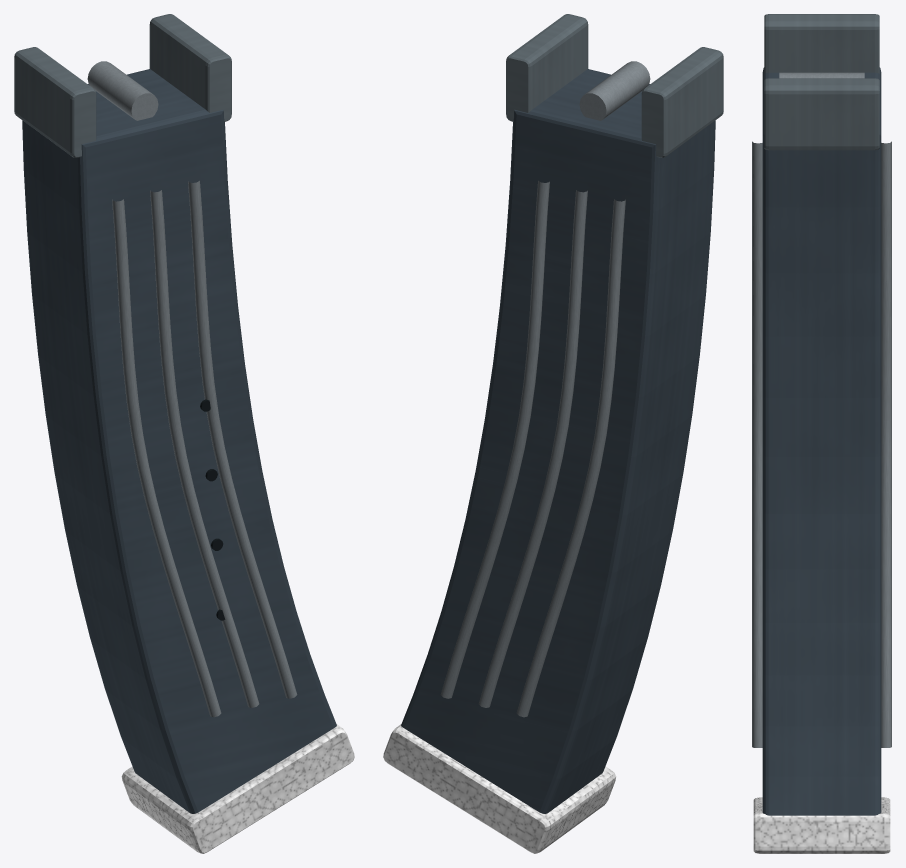
The picture shows the model from 3 angles, left to right: view 1: azimuth 30°, elevation 25°; view 2: azimuth 150°, elevation 25°; view 3: azimuth 270°, elevation 25°; orthographic projection. The views are drawn at different scales.
Visible parts, largest first — view 1: machined receiver, edge hardware, brushed steel, vulcanized grip; view 2: machined receiver, edge hardware, brushed steel, vulcanized grip; view 3: machined receiver, brushed steel, edge hardware, vulcanized grip.
Part boxes in pixels (x1,y1,x2,y2): machined receiver: (22,69,336,813); edge hardware: (87,61,297,717); brushed steel: (14,14,231,157); vulcanized grip: (121,724,354,853); machined receiver: (401,69,715,813); edge hardware: (440,61,650,717); brushed steel: (506,14,723,157); vulcanized grip: (383,724,616,853); machined receiver: (762,67,881,815); brushed steel: (764,14,879,150); edge hardware: (752,72,891,747); vulcanized grip: (753,797,890,853).
Bounding box in the file's own units: 0.1027 × 0.2778 × 0.046.
Materials: 5 (4 with a texture image).
